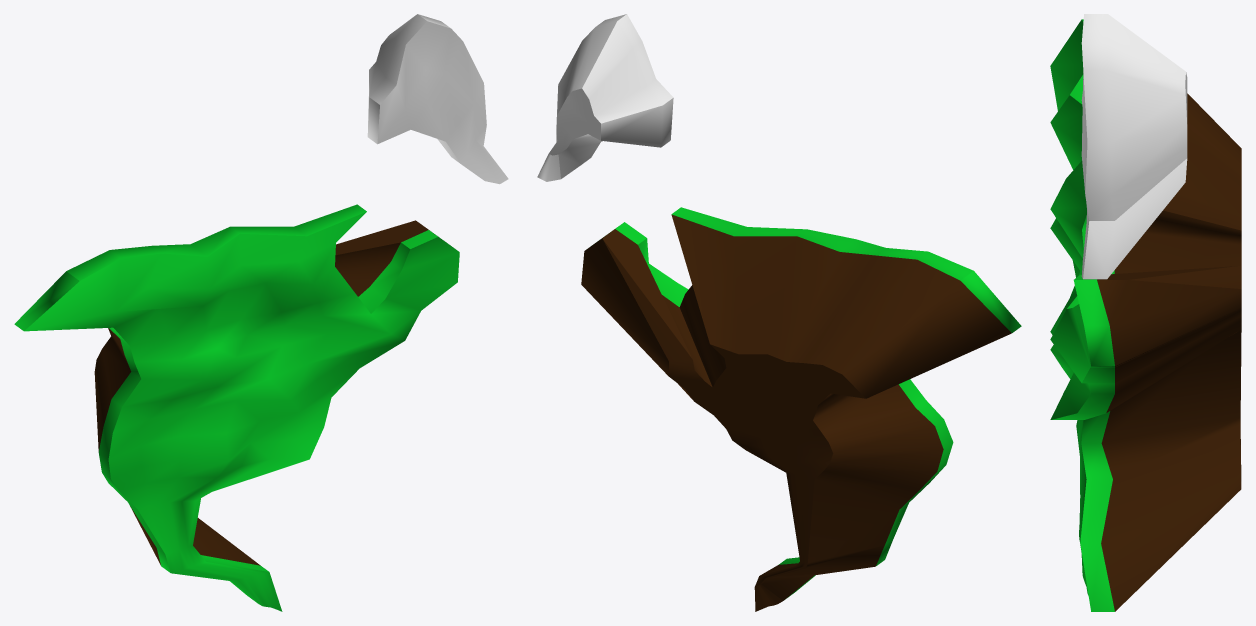
The model's file is nordAmerika.fbx.
The picture shows the model from 3 angles, left to right: view 1: azimuth 30°, elevation 25°; view 2: azimuth 150°, elevation 25°; view 3: azimuth 270°, elevation 25°; orthographic projection. The views are drawn at different scales.
Parts seen in each view (by area): view 1: nordAmerika_flach, grönland_flach; view 2: nordAmerika_flach, grönland_flach; view 3: nordAmerika_flach, grönland_flach.
Boxes of the visible parts, x1,y1,x2,y2 form: nordAmerika_flach: (14, 204, 459, 611); grönland_flach: (367, 14, 508, 184); nordAmerika_flach: (581, 207, 1021, 611); grönland_flach: (537, 14, 673, 181); nordAmerika_flach: (1050, 19, 1241, 611); grönland_flach: (1081, 14, 1187, 279).
Bounding box in the file's own units: 14.23 × 15.77 × 4.01.
